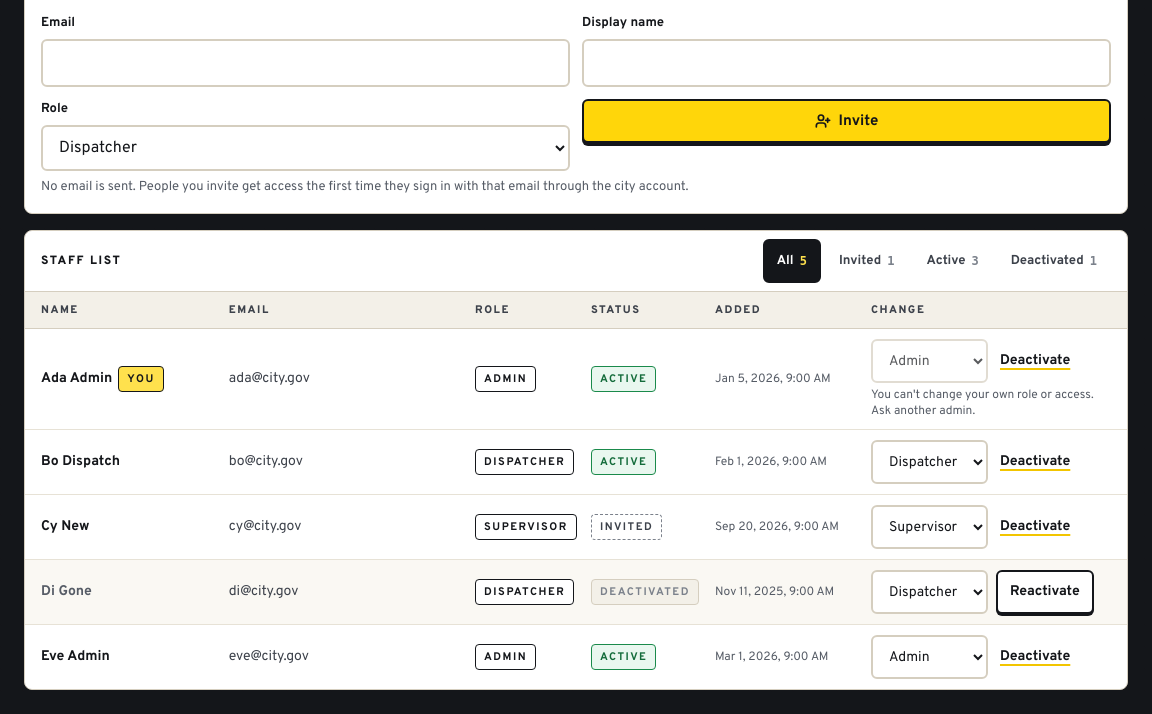
Test: changing access › reactivates without asking
(page scrolled)
Step 1. Click the button "Reactivate" → (1045,592), box 996,570 -> 1094,614
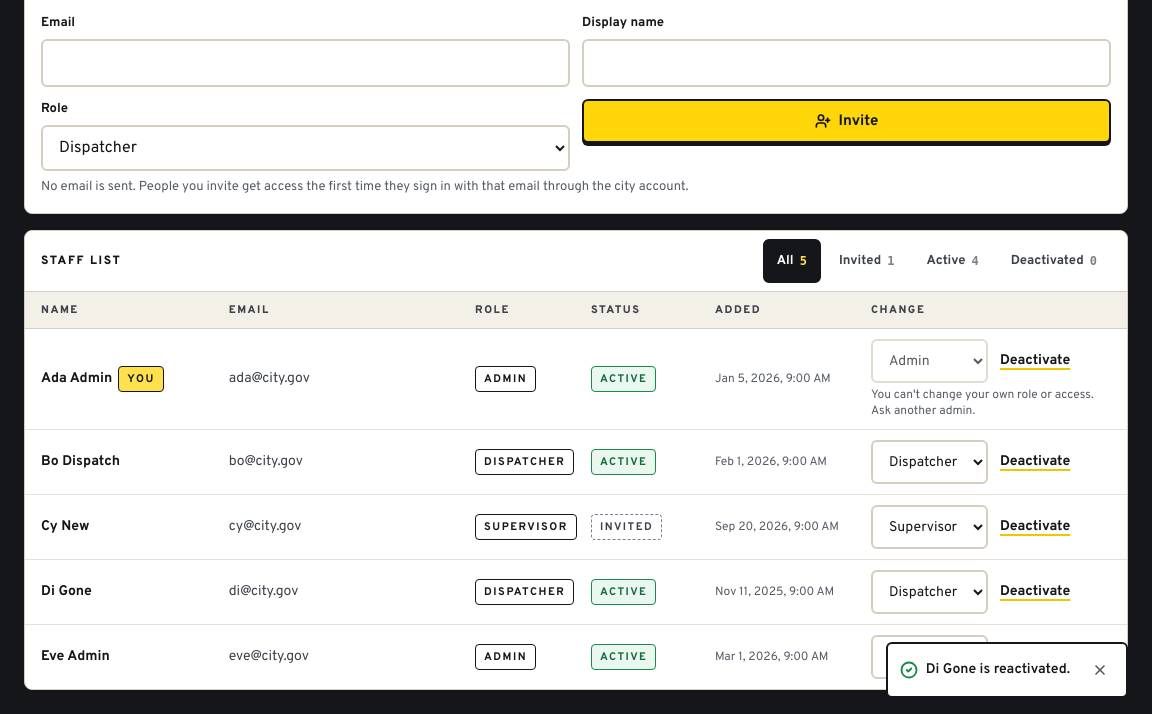
Expected: the text "Active" in the row of "di@city.gov" is shown, 600,585 -> 647,599
